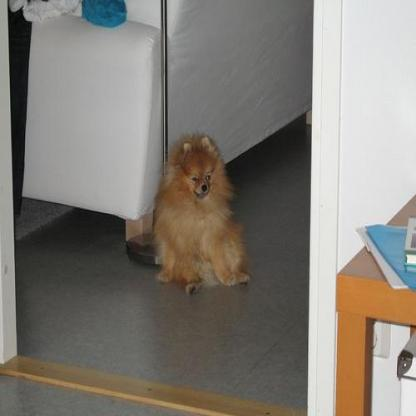Pomeranian: (150, 132, 252, 296)
